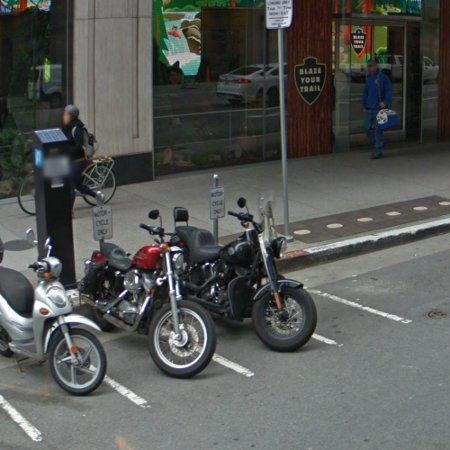motorcycles: (172, 198, 317, 352), (80, 224, 216, 378), (0, 230, 106, 396)
